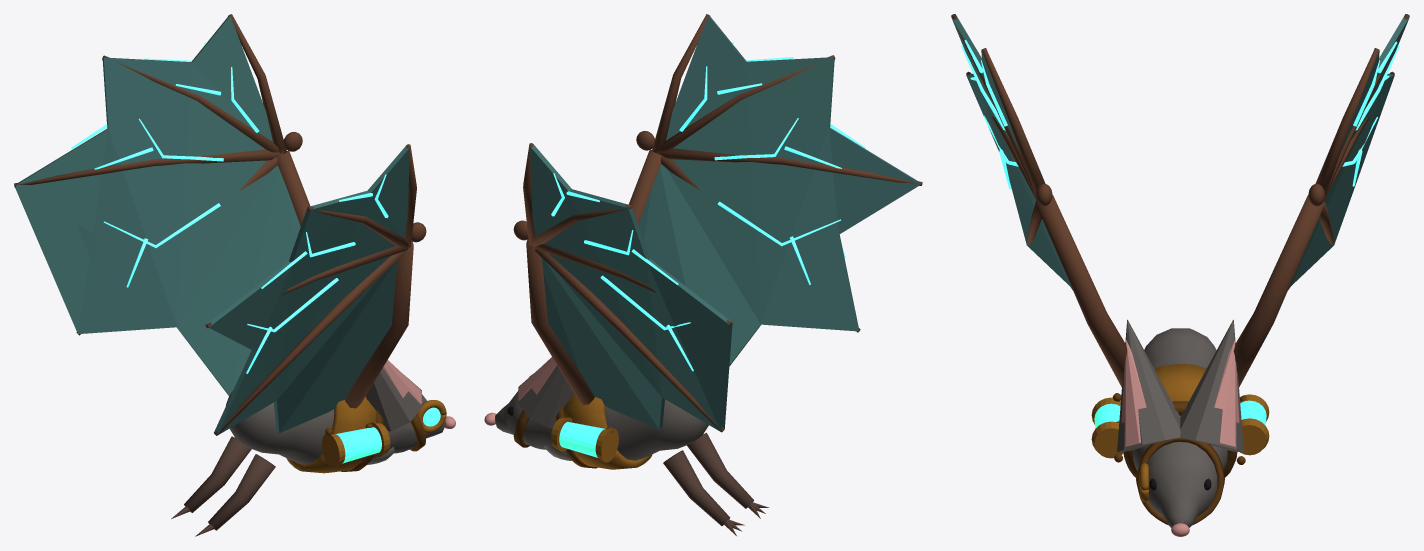
Rendered from bat.glb.
3 views of the same model, side by side, from view 1: azimuth 30°, elevation 25°; view 2: azimuth 150°, elevation 25°; view 3: azimuth 270°, elevation 25° (orthographic). The views are drawn at different scales.
Visible parts, largest first — view 1: Wing_F_Skin, Wing_N_Skin, Body, Wing_N_Arm, Wing_N_Finger3, Ear_N, Wing_F_Finger2, Vest, Leg_HL_Shin, Leg_HR_Shin, Wing_F_Finger0, Wing_F_Finger1 (+7 smaller); view 2: Wing_N_Skin, Wing_F_Skin, Body, Wing_F_Arm, Wing_F_Finger3, Ear_F, Wing_N_Finger2, Vest, Wing_N, Leg_HR_Shin, Leg_HL_Shin, Wing_F (+9 smaller); view 3: Body, Wing_F_Skin, Wing_N_Arm, Wing_F_Arm, Wing_N_Skin, Ear_F, Ear_N, EarIn_F, EarIn_N, Wing_F_Finger0, Wing_N_Finger0, Goggle_Strap (+5 smaller).
Part boxes in pixels (x1,y1,x2,y2): Wing_F_Skin: [14, 15, 300, 396]; Wing_N_Skin: [207, 146, 410, 434]; Body: [225, 391, 445, 464]; Wing_N_Arm: [345, 241, 413, 408]; Wing_N_Finger3: [214, 247, 409, 435]; Ear_N: [365, 368, 422, 431]; Wing_F_Finger2: [14, 149, 282, 187]; Vest: [286, 396, 376, 473]; Leg_HL_Shin: [208, 454, 275, 530]; Leg_HR_Shin: [184, 436, 251, 512]; Wing_F_Finger0: [228, 14, 286, 154]; Wing_F_Finger1: [102, 55, 283, 153]; Wing_N_Skin: [638, 16, 920, 366]; Wing_F_Skin: [529, 144, 732, 431]; Body: [495, 391, 708, 460]; Wing_F_Arm: [526, 239, 594, 404]; Wing_F_Finger3: [530, 245, 724, 432]; Ear_F: [518, 365, 573, 427]; Wing_N_Finger2: [656, 148, 922, 185]; Vest: [563, 393, 652, 469]; Wing_N: [679, 66, 841, 284]; Leg_HR_Shin: [663, 450, 730, 525]; Leg_HL_Shin: [687, 432, 753, 508]; Wing_F: [551, 173, 693, 371]; Body: [1133, 328, 1227, 528]; Wing_F_Skin: [1288, 16, 1409, 289]; Wing_N_Arm: [1035, 195, 1127, 387]; Wing_F_Arm: [1233, 195, 1325, 387]; Wing_N_Skin: [951, 16, 1072, 289]; Ear_F: [1180, 319, 1243, 452]; Ear_N: [1117, 319, 1180, 452]; EarIn_F: [1214, 340, 1239, 446]; EarIn_N: [1121, 340, 1146, 446]; Wing_F_Finger0: [1315, 48, 1379, 196]; Wing_N_Finger0: [981, 48, 1045, 196]; Goggle_Strap: [1136, 437, 1224, 525].
Size of the model in its own units: 1.21 by 1.41 by 1.27.
